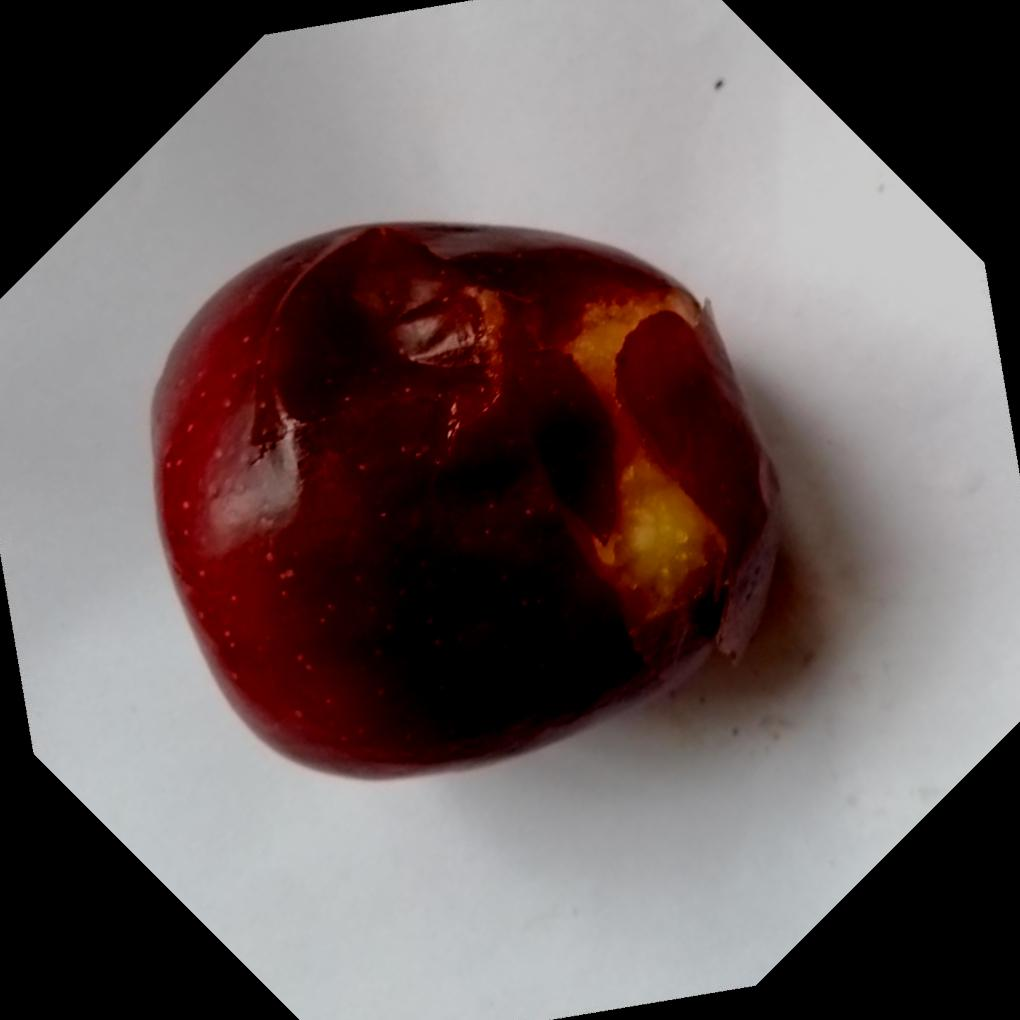FreshOrange: (145, 221, 782, 786)
